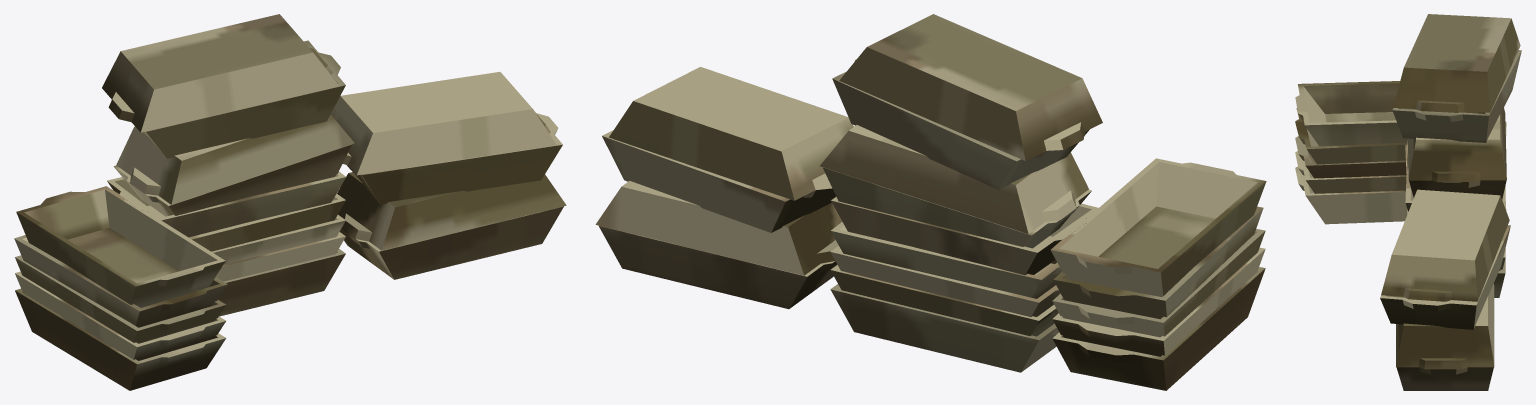
The model's file is SM_tkcontainer.fbx.
3 renders of one model, left to right at view 1: azimuth 30°, elevation 25°; view 2: azimuth 150°, elevation 25°; view 3: azimuth 270°, elevation 25°, orthographic. The views are drawn at different scales.
Parts seen in each view (by area): view 1: sm_containers; view 2: sm_containers; view 3: sm_containers.
Boxes of the visible parts, x1,y1,x2,y2 form: sm_containers: [14, 14, 566, 390]; sm_containers: [595, 14, 1266, 390]; sm_containers: [1295, 14, 1521, 390].
Size of the model in its own units: 75.24 by 35.27 by 32.37.
